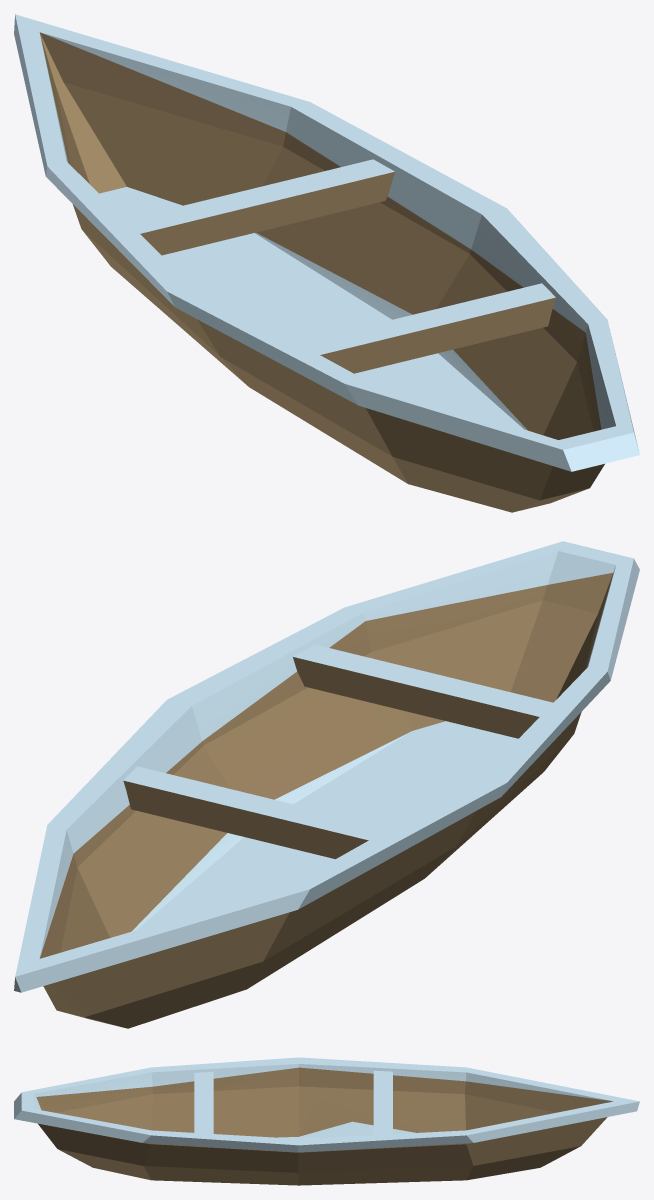
File: model_polytope_snow_old_boat.fbx
3 views of the same model, one above another, from view 1: azimuth 30°, elevation 25°; view 2: azimuth 150°, elevation 25°; view 3: azimuth 270°, elevation 25° (orthographic). The views are drawn at different scales.
Parts seen in each view (by area): view 1: model_polytope_old_boat; view 2: model_polytope_old_boat; view 3: model_polytope_old_boat.
Boxes of the visible parts, x1,y1,x2,y2 form: model_polytope_old_boat: (14, 14, 639, 512); model_polytope_old_boat: (14, 541, 639, 1028); model_polytope_old_boat: (14, 1057, 639, 1185).
Size of the model in its own units: 323 by 105 by 973.
Materials: 1 (1 with a texture image).
